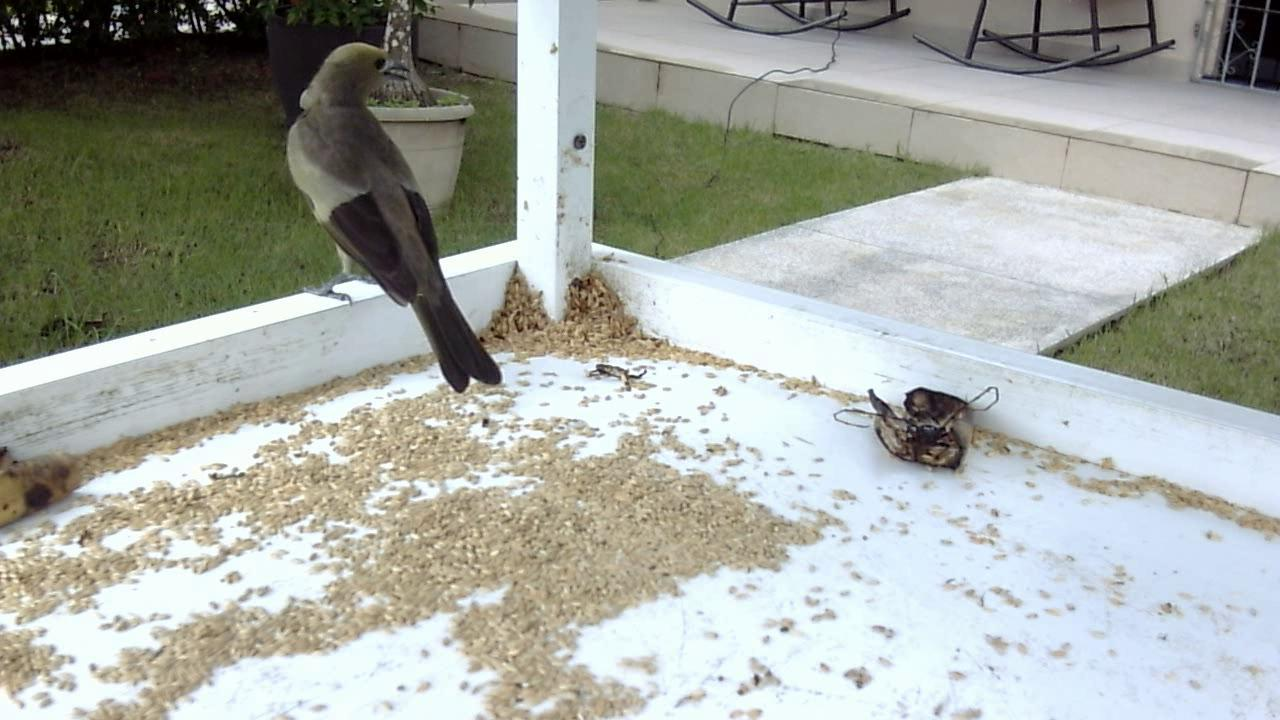sanhaco_do_coqueiro: (279, 34, 501, 409)
